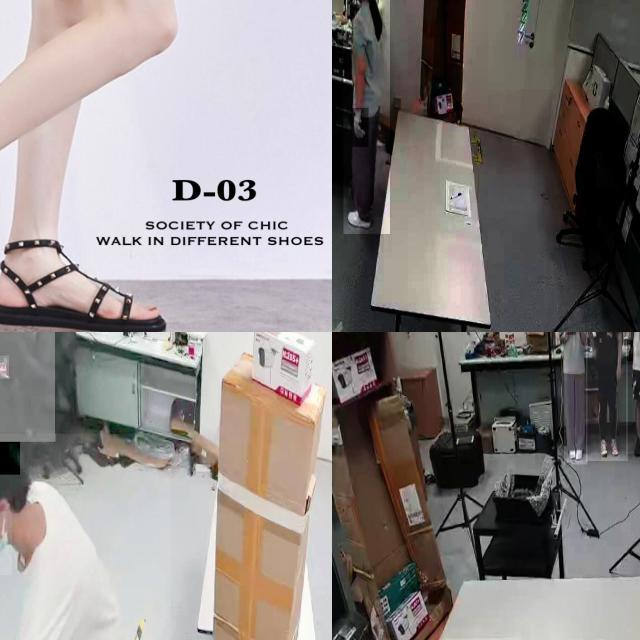Sandals: (0, 126, 221, 332)
face_mask: (0, 511, 12, 575)
hand_glove: (351, 108, 369, 148)
hand_noglove: (0, 355, 9, 379), (615, 362, 621, 384), (627, 340, 633, 362)
head_nohelmet: (0, 441, 20, 475)
person: (0, 434, 171, 640), (343, 0, 390, 234), (0, 332, 55, 441), (585, 332, 628, 462), (564, 332, 588, 465), (626, 332, 640, 454)
shoes: (346, 205, 375, 234), (597, 436, 608, 460), (609, 438, 619, 458), (633, 435, 640, 461), (575, 446, 585, 464), (567, 444, 576, 463)
